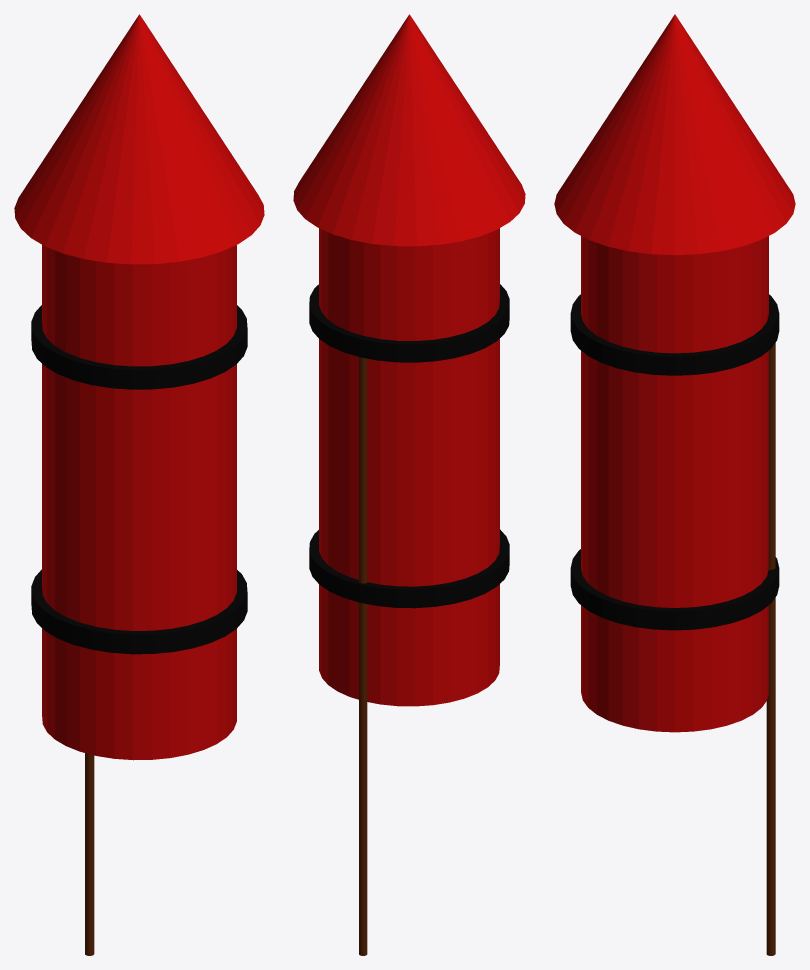
Rendered from Rocket.fbx.
The picture shows the model from 3 angles, left to right: view 1: azimuth 30°, elevation 25°; view 2: azimuth 150°, elevation 25°; view 3: azimuth 270°, elevation 25°; orthographic projection. The views are drawn at different scales.
Parts seen in each view (by area): view 1: Cylinder, Cone, Cylinder.002, Cylinder.001, Cylinder.003; view 2: Cylinder, Cone, Cylinder.003, Cylinder.002, Cylinder.001; view 3: Cylinder, Cone, Cylinder.002, Cylinder.001, Cylinder.003.
Boxes of the visible parts, bbox=[...] form: Cylinder: bbox=[42, 245, 236, 760]; Cone: bbox=[14, 14, 264, 264]; Cylinder.002: bbox=[31, 305, 247, 389]; Cylinder.001: bbox=[31, 569, 247, 654]; Cylinder.003: bbox=[85, 753, 94, 955]; Cylinder: bbox=[319, 228, 499, 706]; Cone: bbox=[293, 14, 525, 246]; Cylinder.003: bbox=[359, 357, 367, 955]; Cylinder.002: bbox=[309, 284, 509, 362]; Cylinder.001: bbox=[309, 529, 509, 608]; Cylinder: bbox=[581, 236, 768, 732]; Cone: bbox=[554, 14, 795, 255]; Cylinder.002: bbox=[570, 294, 779, 375]; Cylinder.001: bbox=[570, 549, 779, 630]; Cylinder.003: bbox=[766, 343, 775, 955].
Bounding box in the file's own units: 45.54 × 196 × 45.54.
